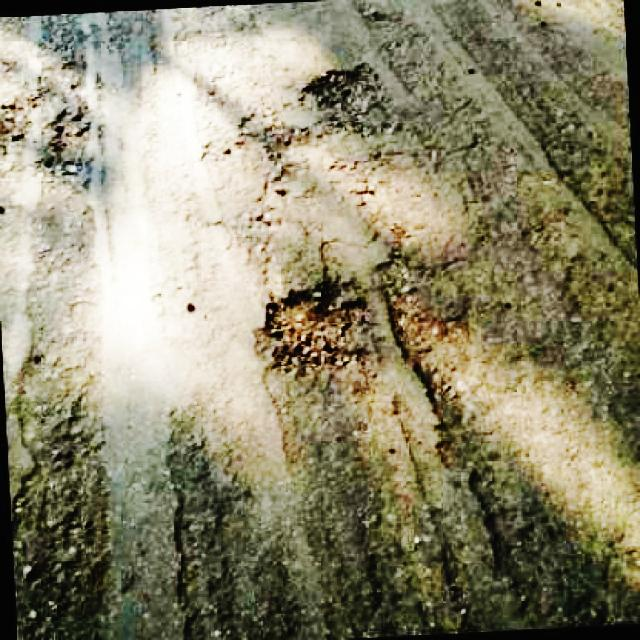pothole: (265, 278, 366, 374), (303, 66, 375, 129), (35, 101, 94, 176)
